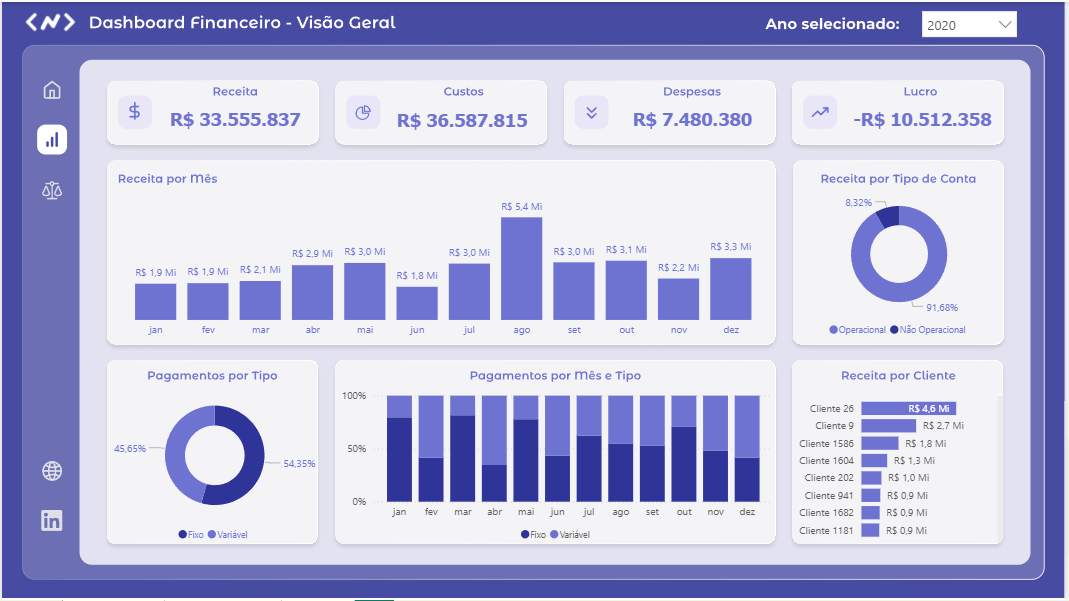

This screenshot's page, from the dashboard's own definition file:
{"tool":"powerbi","page":{"name":"Visão Geral","canvas":[1280,720],"ordinal":0},"visuals":[{"type":"card","fields":{"Values":["_medidas.Receitas"]},"box":[177.8,113.4,205.4,59.8],"z":0},{"type":"card","fields":{"Values":["_medidas.Custos"]},"box":[452,114.3,205,59.1],"z":1},{"type":"card","fields":{"Values":["_medidas.Despesas"]},"box":[728.1,113.4,205.4,59.8],"z":2},{"type":"card","fields":{"Values":["_medidas.Lucro"]},"box":[1005.6,113.4,205.4,59.8],"z":3},{"type":"clusteredColumnChart","fields":{"Category":["dCalendario.Mês abreviado"],"Y":["_medidas.Receitas"]},"box":[130.3,222.3,803.3,190.1],"z":4},{"type":"donutChart","fields":{"Category":["dContas.conta"],"Y":["_medidas.Receitas"]},"box":[948.6,222,262.8,190.5],"z":5},{"type":"donutChart","fields":{"Category":["dContas.tipo"],"Y":["_medidas.Despesas"]},"box":[130.1,459.9,252.3,198.4],"z":6},{"type":"hundredPercentStackedColumnChart","fields":{"Category":["dCalendario.Mês abreviado"],"Y":["_medidas.Despesas"],"Series":["dContas.tipo"]},"box":[403.4,459.9,529.5,198.4],"z":7},{"type":"barChart","fields":{"Category":["fRecebimentos.cliente"],"Y":["_medidas.Receitas"]},"box":[949,460,263,198],"z":8},{"type":"slicer","fields":{"Values":["dCalendario.Ano"]},"box":[1098.4,1.3,134,46],"z":9},{"type":"actionButton","box":[35.5,202.3,51.2,48.6],"z":10},{"type":"actionButton","box":[40.7,86.7,40.7,39.4],"z":11}]}

Visuals, with their boxes on the page's 1280x720 design canvas (x1, y1, x2, y2). These are canvas units, not pixel positions in the 1069x601 screenshot, which may show the page scaled, cropped or inside an application window:
card - _medidas.Receitas: (left=178, top=113, right=383, bottom=173)
card - _medidas.Custos: (left=452, top=114, right=657, bottom=173)
card - _medidas.Despesas: (left=728, top=113, right=934, bottom=173)
card - _medidas.Lucro: (left=1006, top=113, right=1211, bottom=173)
clusteredColumnChart - dCalendario.Mês abreviado x _medidas.Receitas: (left=130, top=222, right=934, bottom=412)
donutChart - dContas.conta x _medidas.Receitas: (left=949, top=222, right=1211, bottom=412)
donutChart - dContas.tipo x _medidas.Despesas: (left=130, top=460, right=382, bottom=658)
hundredPercentStackedColumnChart - dCalendario.Mês abreviado x _medidas.Despesas: (left=403, top=460, right=933, bottom=658)
barChart - fRecebimentos.cliente x _medidas.Receitas: (left=949, top=460, right=1212, bottom=658)
slicer - dCalendario.Ano: (left=1098, top=1, right=1232, bottom=47)
actionButton: (left=36, top=202, right=87, bottom=251)
actionButton: (left=41, top=87, right=81, bottom=126)
